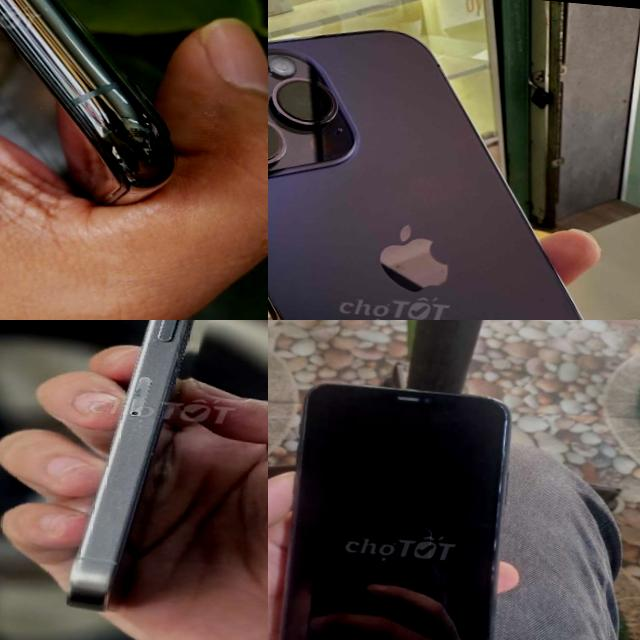gen_11: (268, 369, 522, 640), (0, 0, 174, 204)
gen_14: (268, 7, 640, 320)
gen_15: (64, 320, 230, 626)
